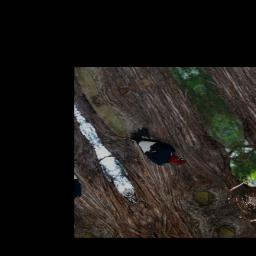Woodpecker: (124, 118, 193, 178)
